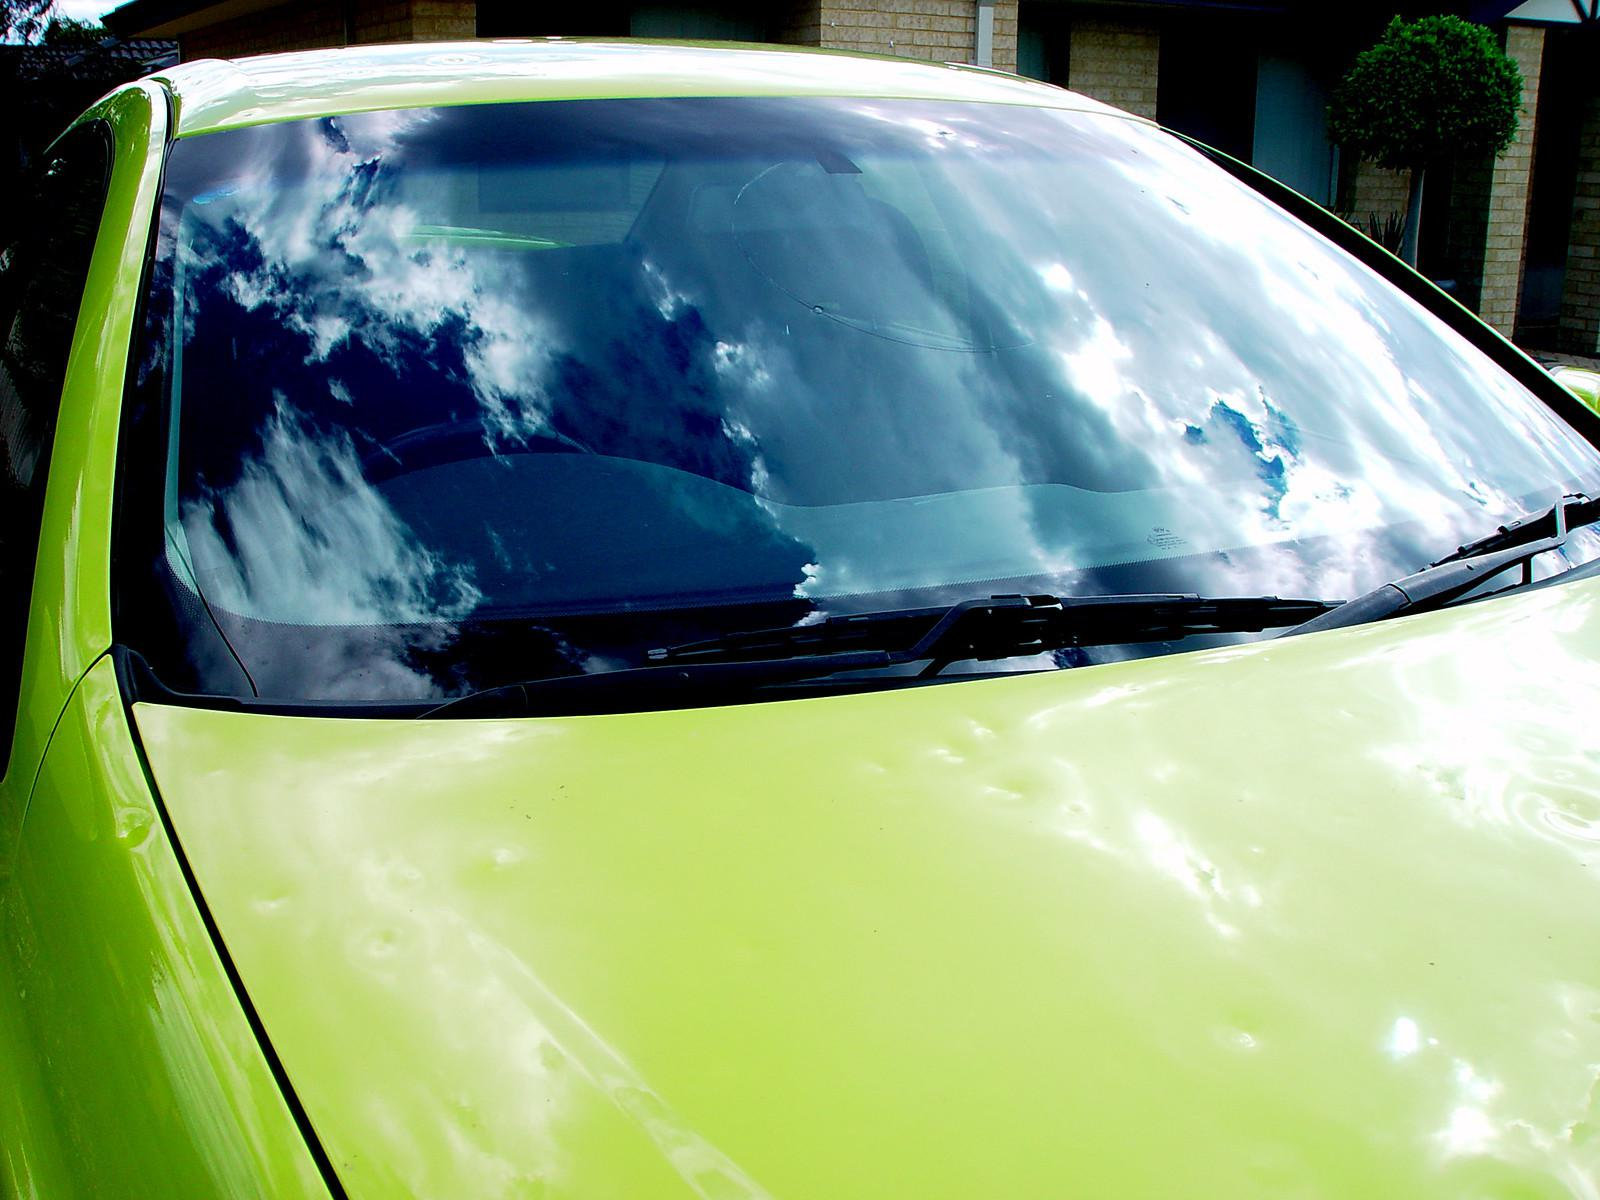bonnet-dent: (328, 687, 1599, 1199)
